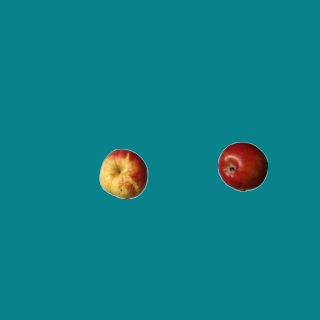Apple Braeburn: (217, 141, 267, 191)
Apple Red Yellow 1: (98, 148, 148, 198)
